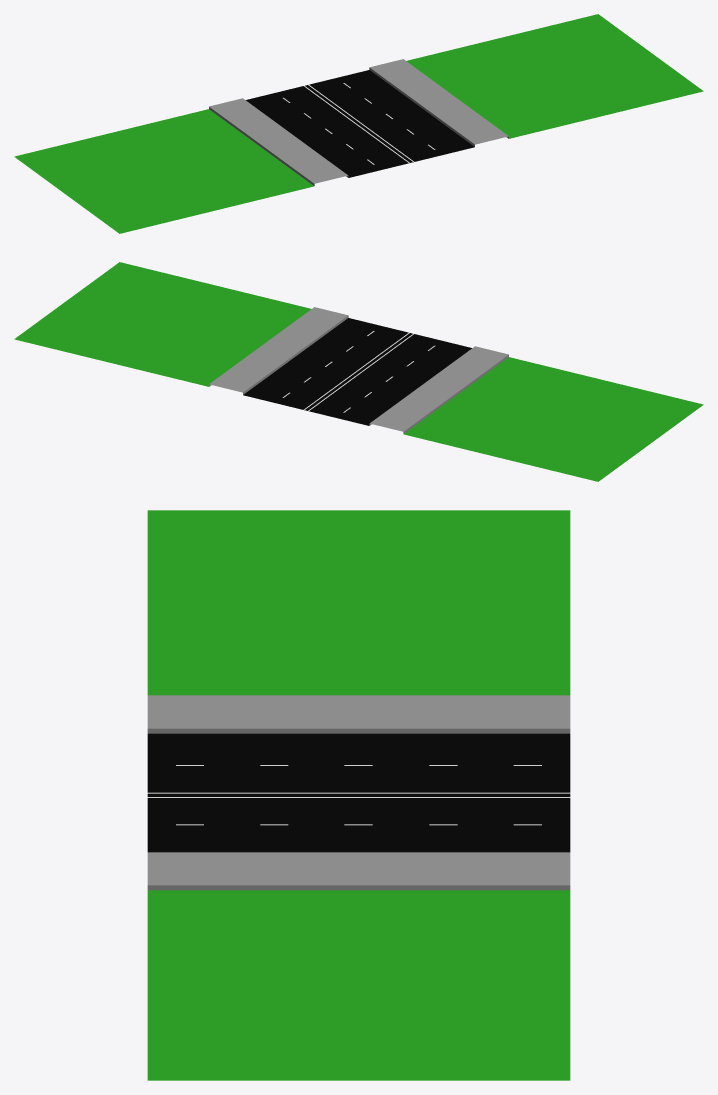
File: DrogaMiasto1.fbx
3 views of the same model, one above another, from view 1: azimuth 30°, elevation 25°; view 2: azimuth 150°, elevation 25°; view 3: azimuth 270°, elevation 25° (orthographic). The views are drawn at different scales.
Parts seen in each view (by area): view 1: DrogaMiasto; view 2: DrogaMiasto; view 3: DrogaMiasto.
Part boxes in pixels (box(x1,y1,x2,y2)): DrogaMiasto: box(14, 14, 703, 233); DrogaMiasto: box(14, 262, 703, 481); DrogaMiasto: box(147, 510, 570, 1080).
Bounding box in the file's own units: 4791 × 20 × 1500.
